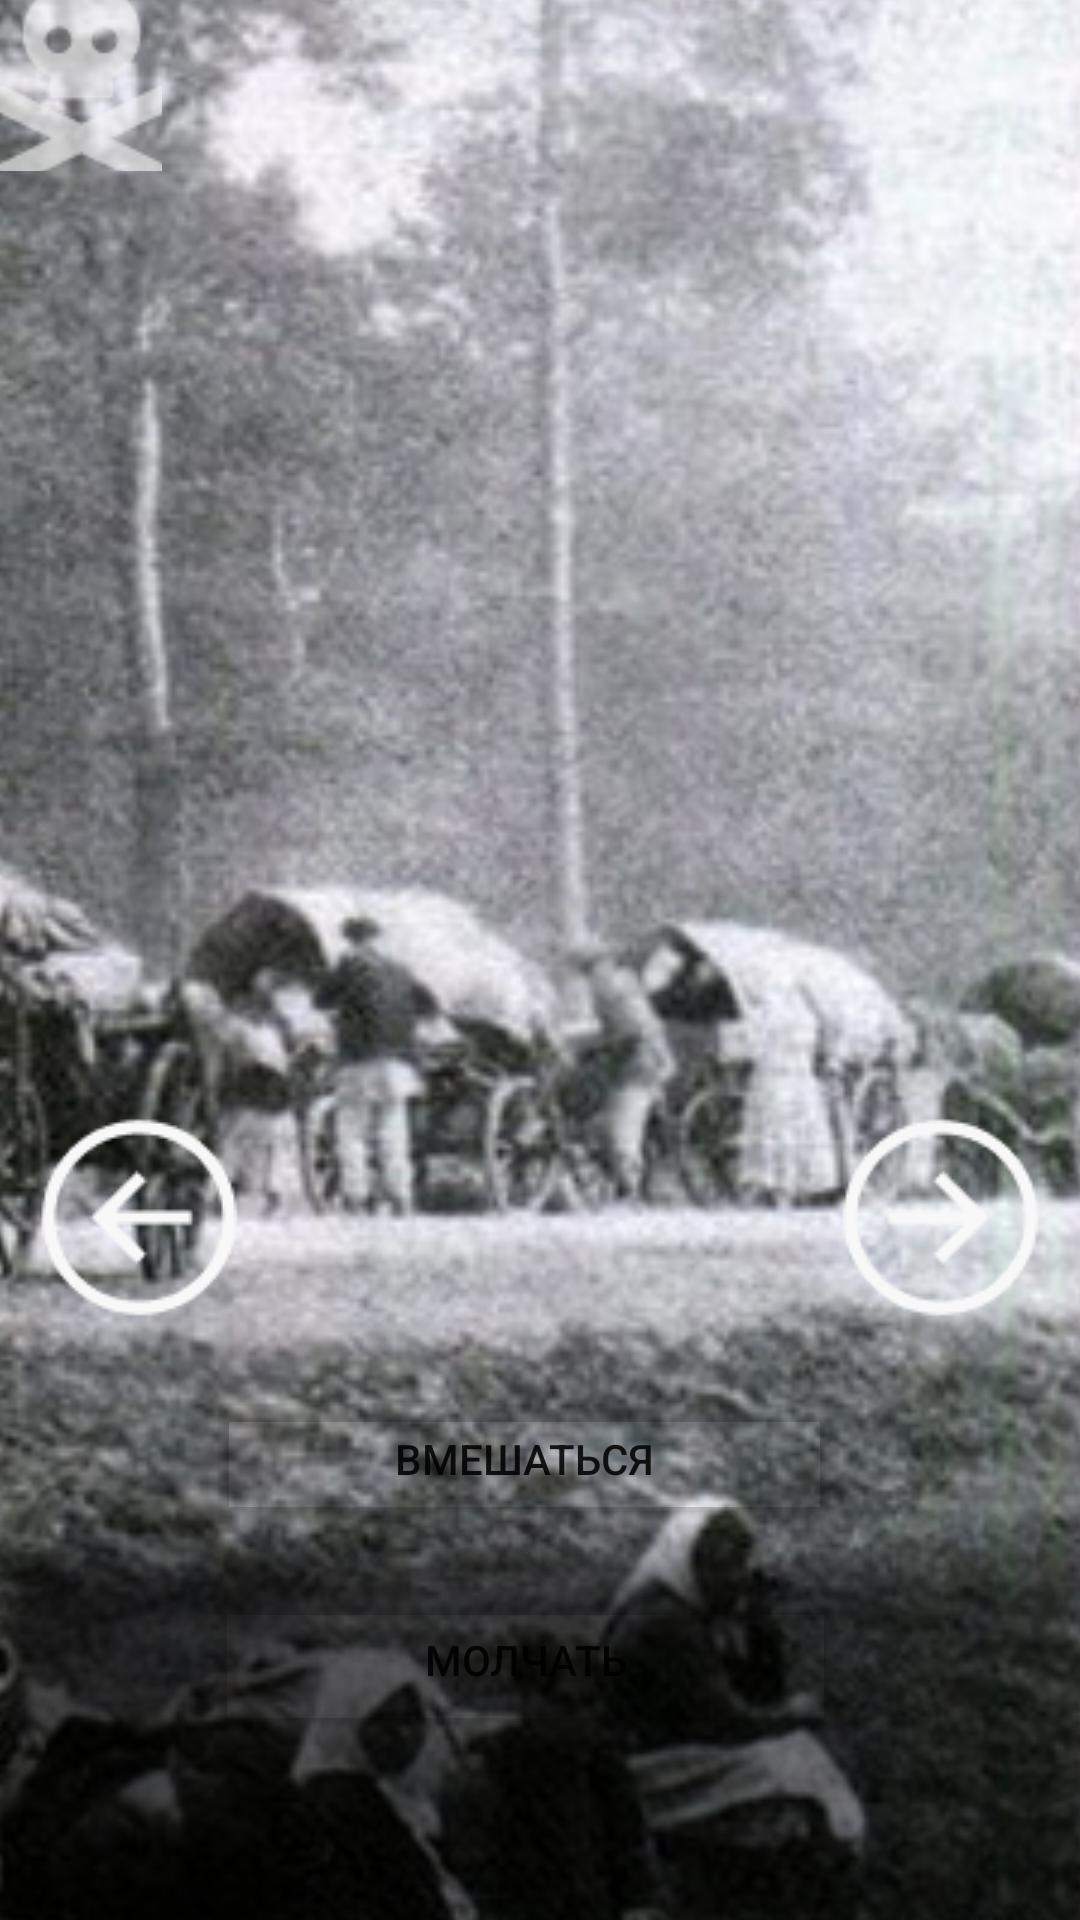

Where to tap for icons on this 1080×1920 app screen, as (x,y):
back: (139,1217)
forward: (940,1217)
